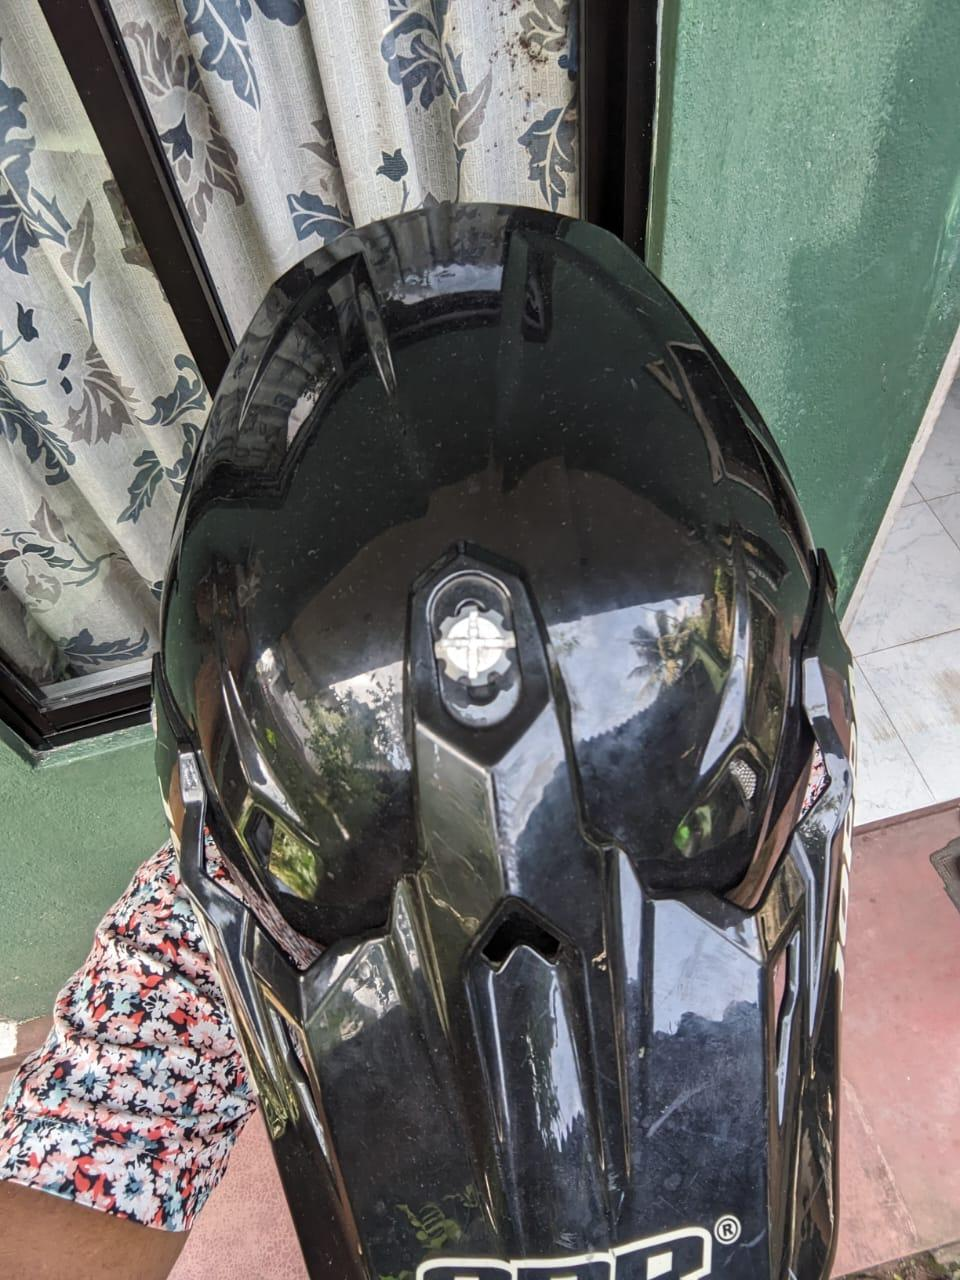helmet: (148, 200, 860, 1279)
